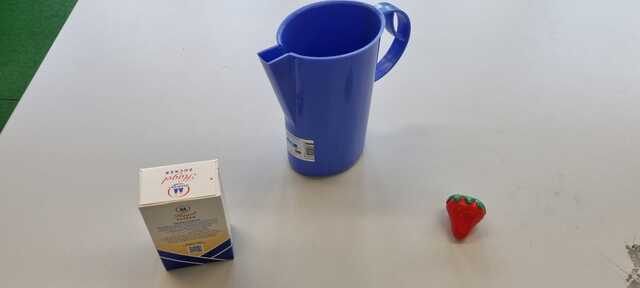004_sugar_box: (136, 156, 242, 274)
012_strawberry: (443, 192, 490, 245)
019_pitcher_base: (254, 1, 414, 182)
